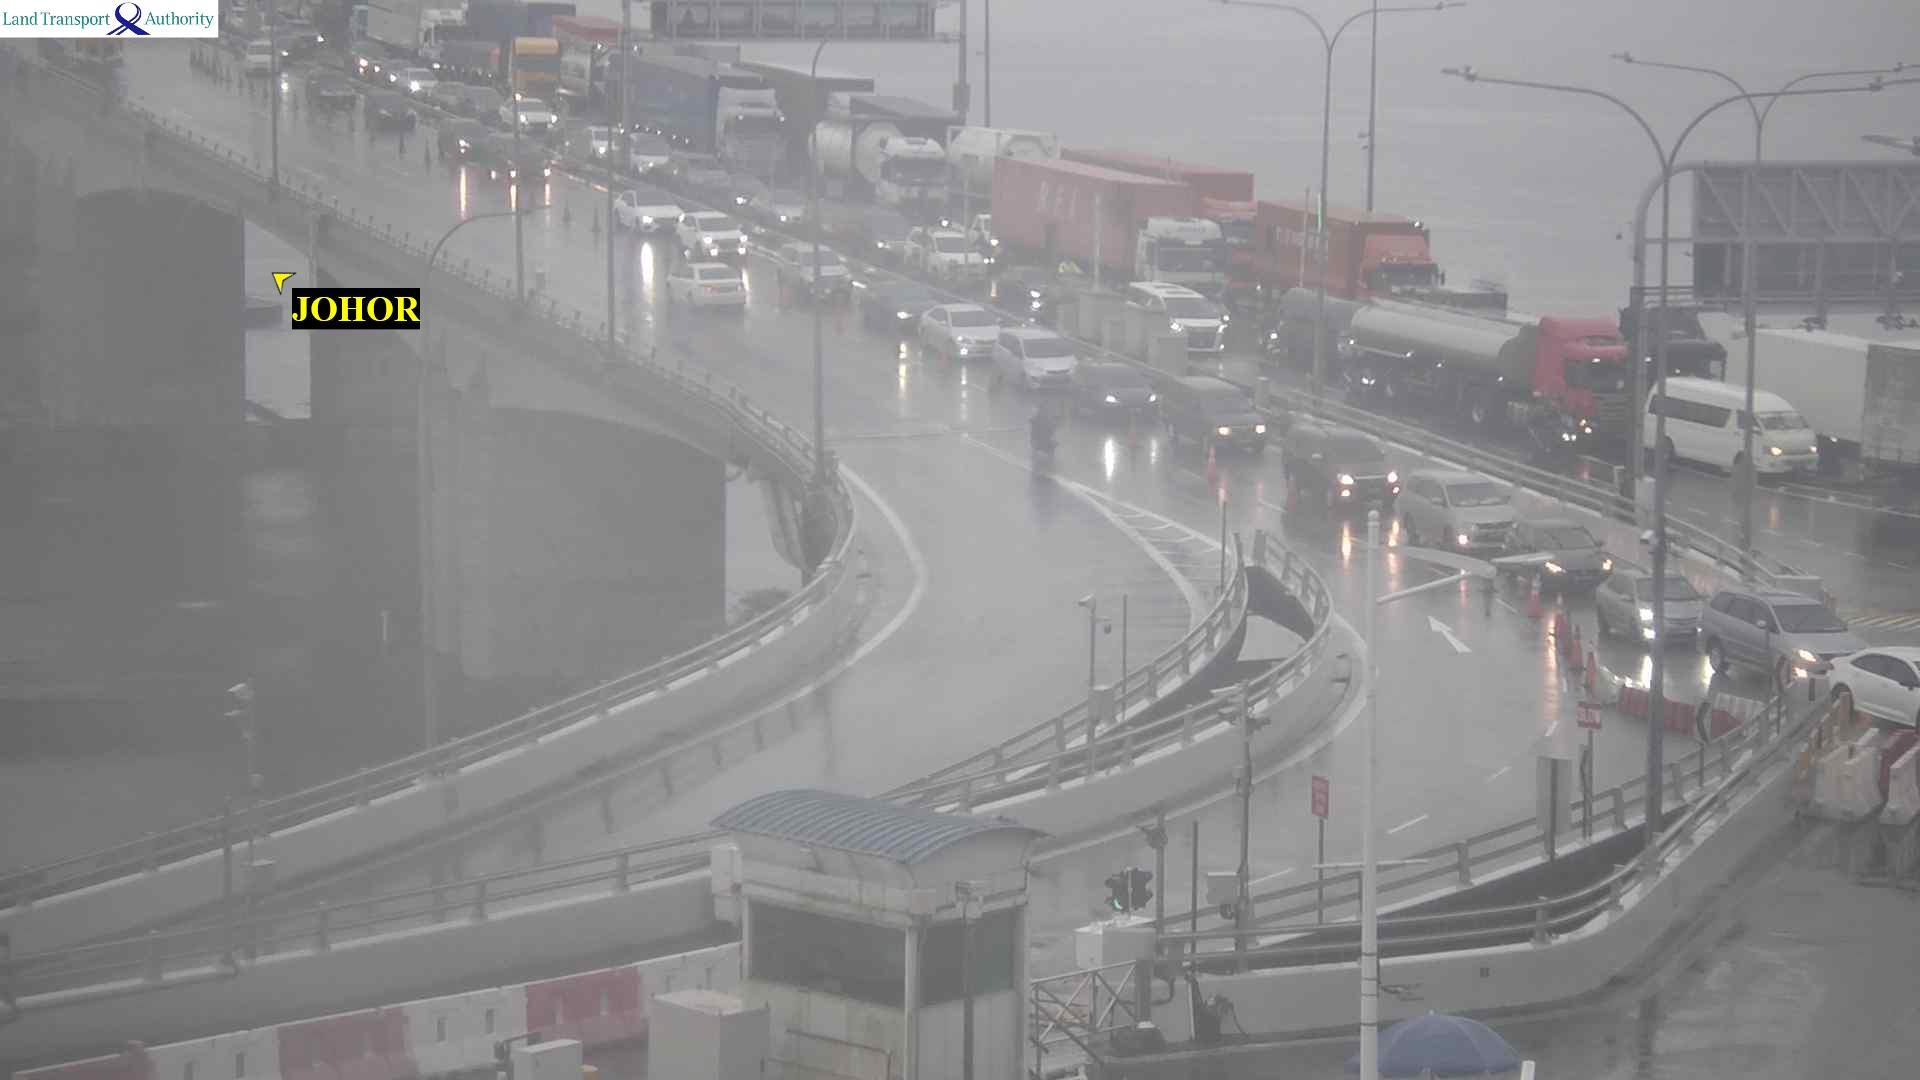vehicle-secondlink-johor: (669, 265, 748, 310)
vehicle-secondlink-singapore: (1350, 313, 1626, 442), (994, 156, 1226, 298), (745, 62, 943, 210), (629, 57, 787, 171), (1701, 587, 1871, 691), (1259, 199, 1431, 301), (1651, 372, 1808, 473), (1400, 460, 1518, 554), (1287, 423, 1396, 512), (1597, 570, 1708, 647), (1166, 377, 1266, 452), (1125, 282, 1224, 356), (1830, 647, 1920, 723), (1506, 522, 1613, 580), (365, 0, 468, 59), (1073, 367, 1162, 423), (997, 328, 1080, 388), (909, 225, 988, 282), (919, 299, 1000, 355), (778, 245, 853, 303), (861, 282, 936, 327), (613, 186, 683, 233), (675, 214, 748, 257), (483, 136, 550, 179), (502, 96, 562, 135), (305, 67, 355, 109), (364, 91, 415, 129), (439, 117, 487, 158), (582, 127, 626, 157), (244, 41, 284, 75), (397, 69, 439, 96)
